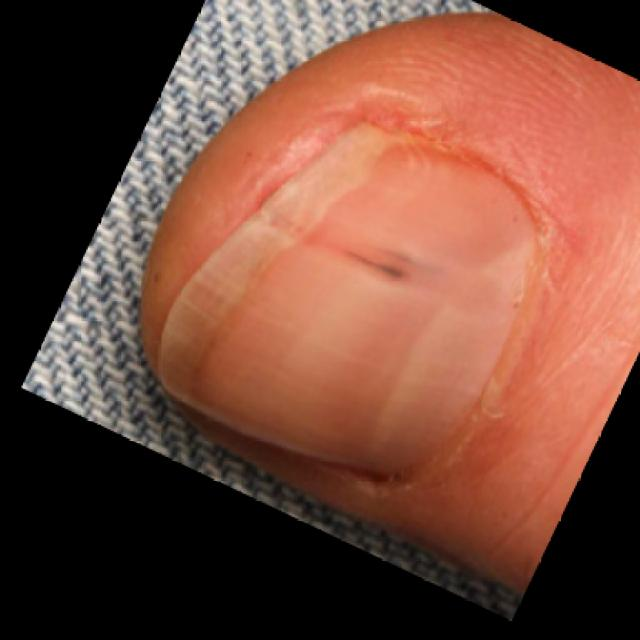Nail: (159, 124, 538, 475)
